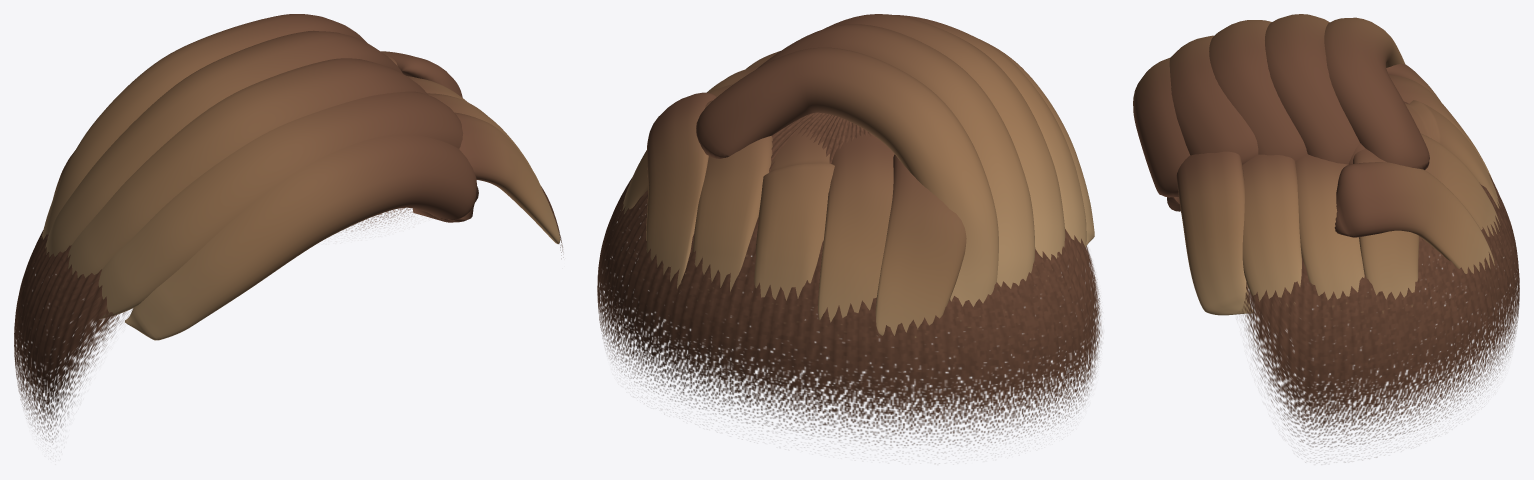
Rendered from Selected-B-taper-baseline256-ombre.glb.
3 renders of one model, left to right at view 1: azimuth 30°, elevation 25°; view 2: azimuth 150°, elevation 25°; view 3: azimuth 270°, elevation 25°, orthographic. The views are drawn at different scales.
Visible parts, largest first — view 1: 226 hair / Hair252 / sculpted locks, 226 hair / Hair252 / gentle tonal variation, 226 hair / Hair256 / selected B sides; view 2: 226 hair / Hair252 / sculpted locks, 226 hair / Hair256 / selected B sides, 226 hair / Hair252 / gentle tonal variation; view 3: 226 hair / Hair252 / sculpted locks, 226 hair / Hair256 / selected B sides, 226 hair / Hair252 / gentle tonal variation.
Part boxes in pixels (x1,y1,x2,y2): 226 hair / Hair252 / sculpted locks: (41, 14, 542, 318); 226 hair / Hair252 / gentle tonal variation: (125, 112, 560, 340); 226 hair / Hair256 / selected B sides: (14, 186, 563, 442); 226 hair / Hair252 / sculpted locks: (622, 14, 1086, 337); 226 hair / Hair256 / selected B sides: (597, 112, 1102, 452); 226 hair / Hair252 / gentle tonal variation: (746, 39, 1094, 335); 226 hair / Hair252 / sculpted locks: (1169, 14, 1503, 320); 226 hair / Hair256 / selected B sides: (1240, 101, 1519, 462); 226 hair / Hair252 / gentle tonal variation: (1133, 58, 1492, 315).
Bounding box in the file's own units: 0.9774 × 0.6944 × 0.746.
Materials: 3 (1 with a texture image).
